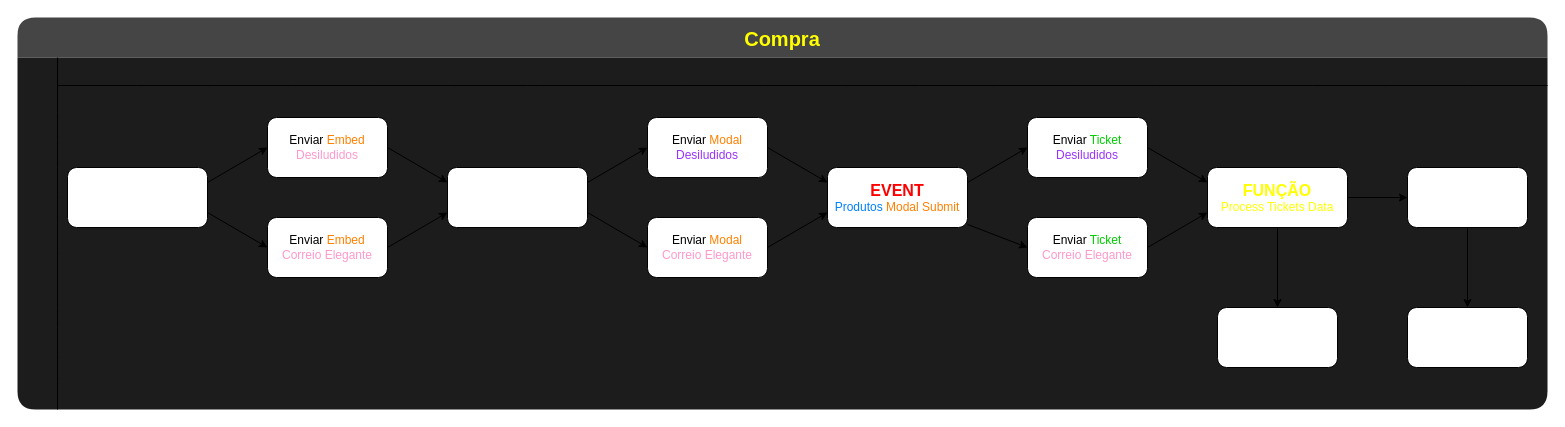
Some shapes in this 1565 by 427 pixel diagram are drawn without their labels. The centre of each missing label's shape, as x and y in pixels:
Adicionar Ticket: point 1467,337
CLASSE TicketsDB: point 1467,197
Enviar Embed Tickets: point 1277,337
EVENT Pagamento Select Menu: point 137,197
EVENT Produtos Select Menu: point 517,197
